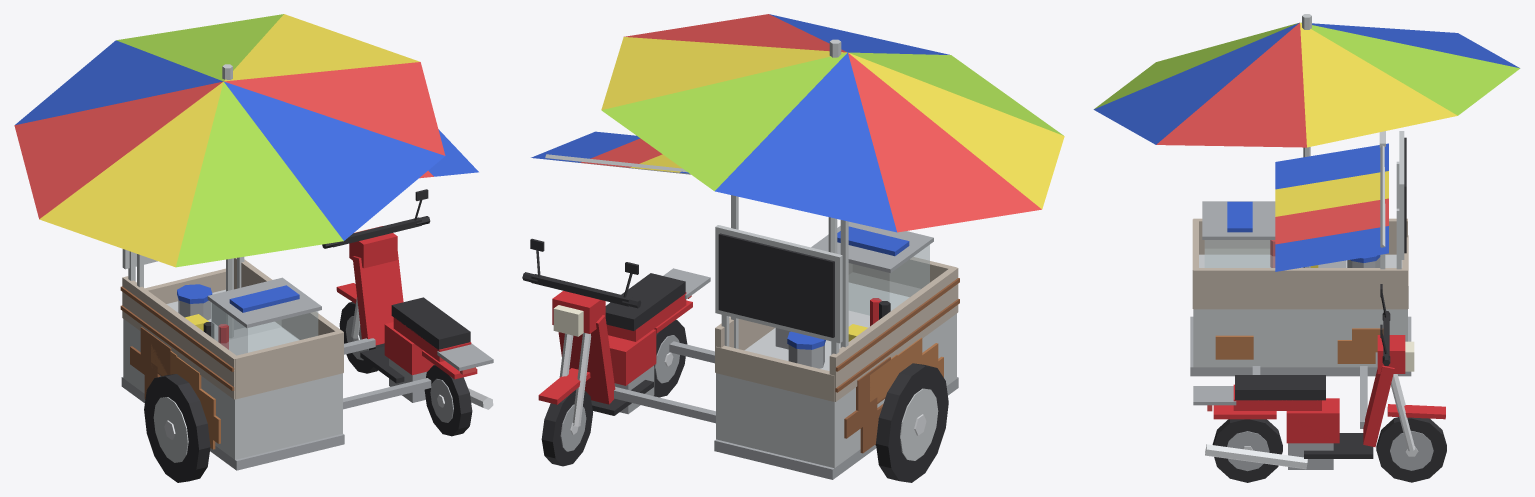
Rendered from FoodCart.fbx.
3 views of the same model, side by side, from view 1: azimuth 30°, elevation 25°; view 2: azimuth 150°, elevation 25°; view 3: azimuth 270°, elevation 25° (orthographic). The views are drawn at different scales.
Visible parts, largest first — view 1: Umbrella, BodyLower, CartWheel, WallBack, WallLeft, LegShield, CaseGlass, MotoWheelRear, CaseTop, Seat, Chassis, WallRight (+16 smaller); view 2: Umbrella, BodyLower, SignBoard, CartWheel, WallLeft, WallFront, CaseGlass, MotoWheelFront, SignFrame, Seat, LegShield, WallBack (+26 smaller); view 3: Umbrella, BodyLower, WallRight, MotoWheelFront, Tarp.003, Tarp, Tarp.001, Tarp.002, MotoWheelRear, Seat, CaseTop, BodyCover (+19 smaller).
Part boxes in pixels (bbox=[...]): Umbrella: bbox=[14, 14, 445, 267]; BodyLower: bbox=[123, 289, 342, 459]; CartWheel: bbox=[144, 374, 210, 482]; WallBack: bbox=[235, 331, 343, 399]; WallLeft: bbox=[122, 276, 239, 399]; LegShield: bbox=[352, 251, 403, 345]; CaseGlass: bbox=[211, 302, 318, 355]; MotoWheelRear: bbox=[424, 365, 472, 436]; CaseTop: bbox=[207, 277, 321, 327]; Seat: bbox=[391, 297, 470, 349]; Chassis: bbox=[121, 377, 344, 470]; WallRight: bbox=[234, 258, 343, 372]; Umbrella: bbox=[601, 14, 1064, 232]; BodyLower: bbox=[716, 282, 956, 468]; SignBoard: bbox=[718, 233, 834, 337]; CartWheel: bbox=[876, 363, 948, 482]; WallLeft: bbox=[829, 266, 958, 401]; WallFront: bbox=[715, 345, 834, 401]; CaseGlass: bbox=[848, 245, 929, 315]; MotoWheelFront: bbox=[541, 390, 593, 466]; SignFrame: bbox=[715, 225, 842, 343]; Seat: bbox=[605, 273, 685, 330]; LegShield: bbox=[558, 315, 615, 404]; WallBack: bbox=[849, 257, 956, 296]; Umbrella: bbox=[1093, 22, 1520, 147]; BodyLower: bbox=[1193, 254, 1407, 367]; WallRight: bbox=[1193, 268, 1407, 309]; MotoWheelFront: bbox=[1376, 417, 1446, 482]; Tarp.003: bbox=[1275, 226, 1388, 271]; Tarp: bbox=[1275, 143, 1388, 189]; Tarp.001: bbox=[1275, 171, 1388, 216]; Tarp.002: bbox=[1275, 198, 1388, 244]; MotoWheelRear: bbox=[1212, 419, 1282, 482]; Seat: bbox=[1235, 375, 1325, 400]; CaseTop: bbox=[1202, 201, 1275, 239]; BodyCover: bbox=[1286, 398, 1339, 443].
Size of the model in its own units: 3.79 by 3.28 by 3.38.
